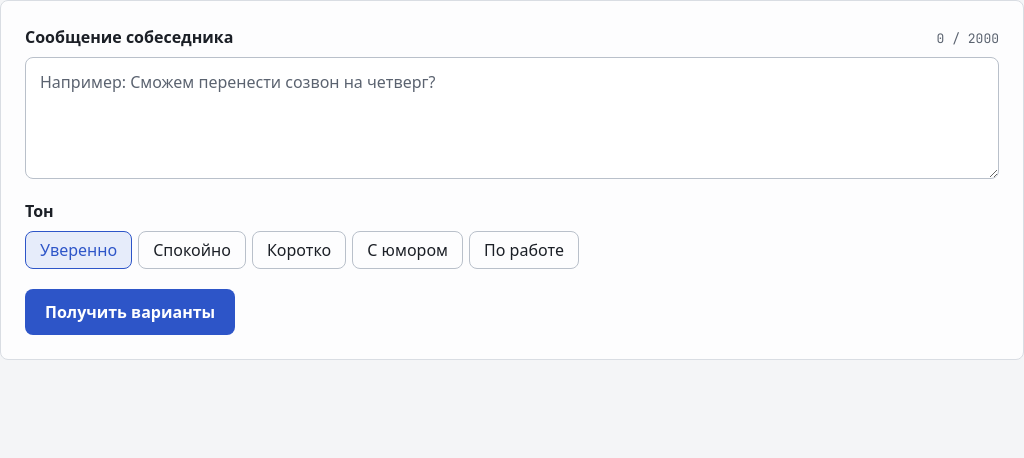
ReplyTool › после ошибки не показывает варианты к прошлому сообщению
In the text box: x=512, y=118 [25, 57, 999, 179], type "Скинешь отчёт до обеда?"
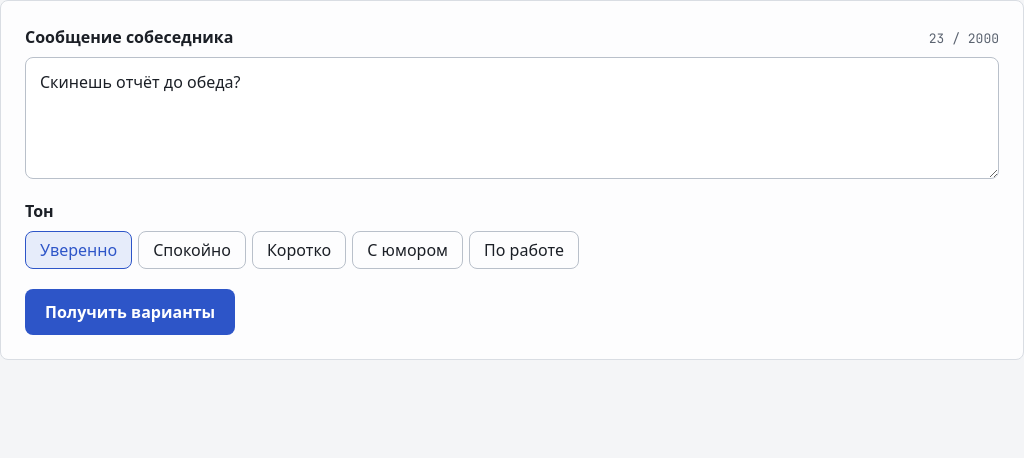
Click the button "Получить варианты": x=130, y=312 [25, 289, 235, 335]
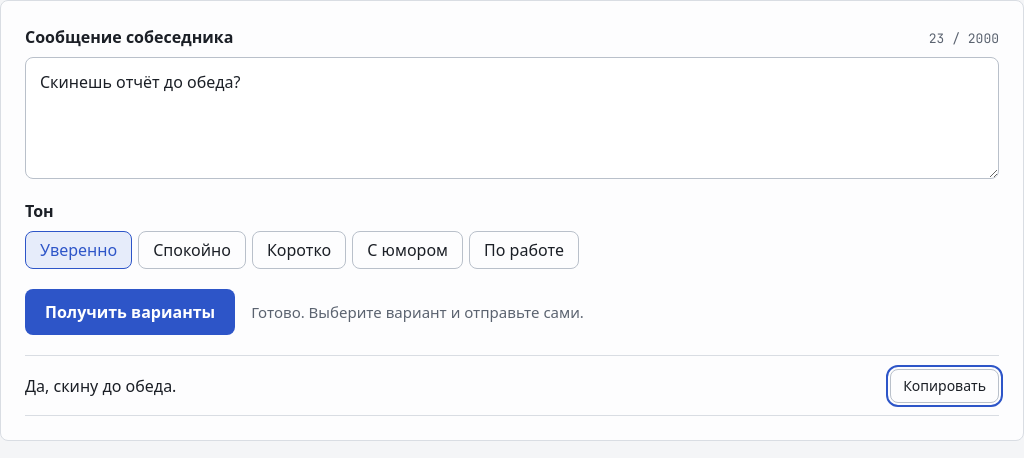
Check: the list item shows "Да, скину до обеда.", box [25, 374, 176, 396]
Replace the text in the text box with "Ты где? Мы уже собрались": x=512, y=118 [25, 57, 999, 179]
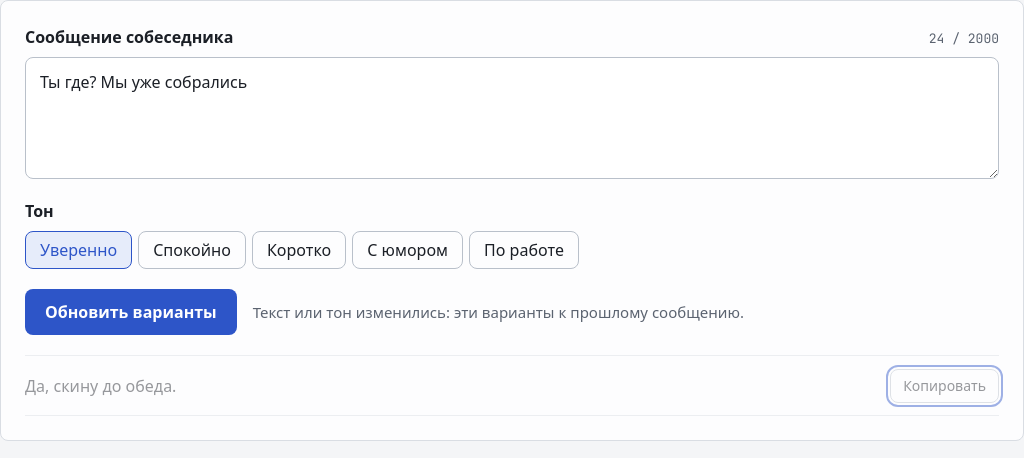
Click the button "Обновить варианты": x=131, y=312 [25, 289, 237, 335]
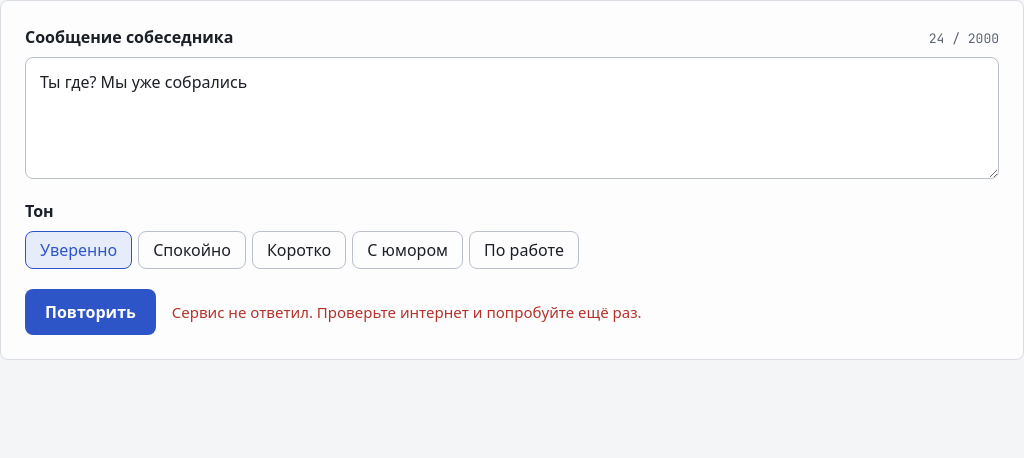
Check: the message shows "Сервис не ответил", box [172, 302, 642, 322]
Check: the button "Повторить" is shown, box [25, 289, 156, 335]
